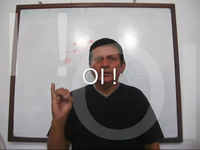oi: (50, 79, 76, 118)
